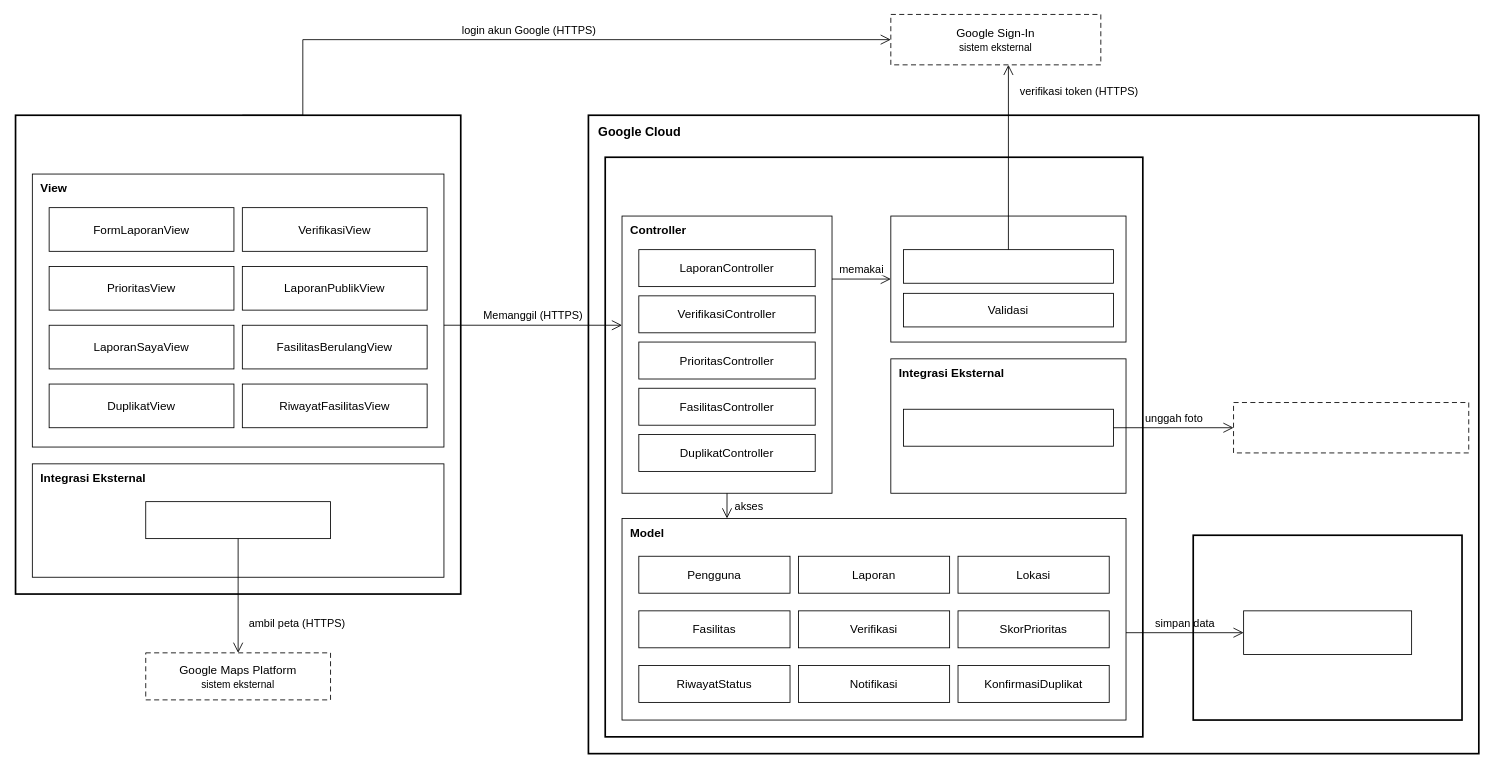
The diagram is 1494 pixels wide and 769 high, and some of its shapes have lost their labels. The shapes that lost their labels are listed below. From the top down, each one's box as (x1, y1, x2, y2) in pixels, then its label:
(903, 249, 1113, 283): Autentikasi
(890, 215, 1126, 342): Pendukung
(14, 114, 461, 594): Perangkat Mobile Client: Mobile App , OS: Android / iOS
(604, 156, 1143, 737): Server Runtime: Node.js v24, dijalankan pada layanan cloud
(903, 408, 1113, 446): CloudStorageAdapter
(1233, 402, 1469, 453): Google Cloud Storage sistem eksternal
(145, 501, 331, 539): GoogleMapsAdapter
(1192, 534, 1462, 720): Server Basis Data DBMS: PostgreSQL 18
(1243, 610, 1412, 655): Database PostgreSQL 18
